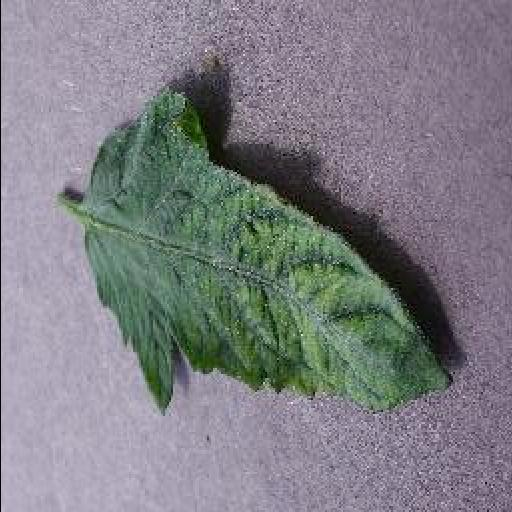disease_tomato: (84, 90, 456, 418)
